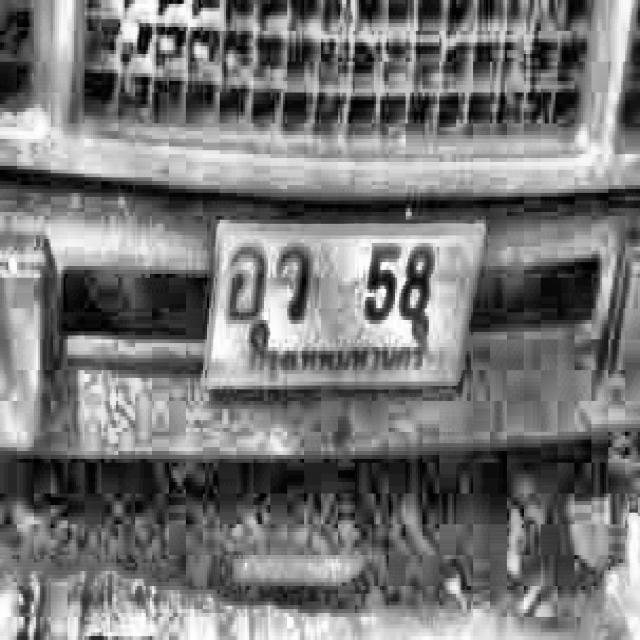license-plate: (188, 202, 494, 402)
